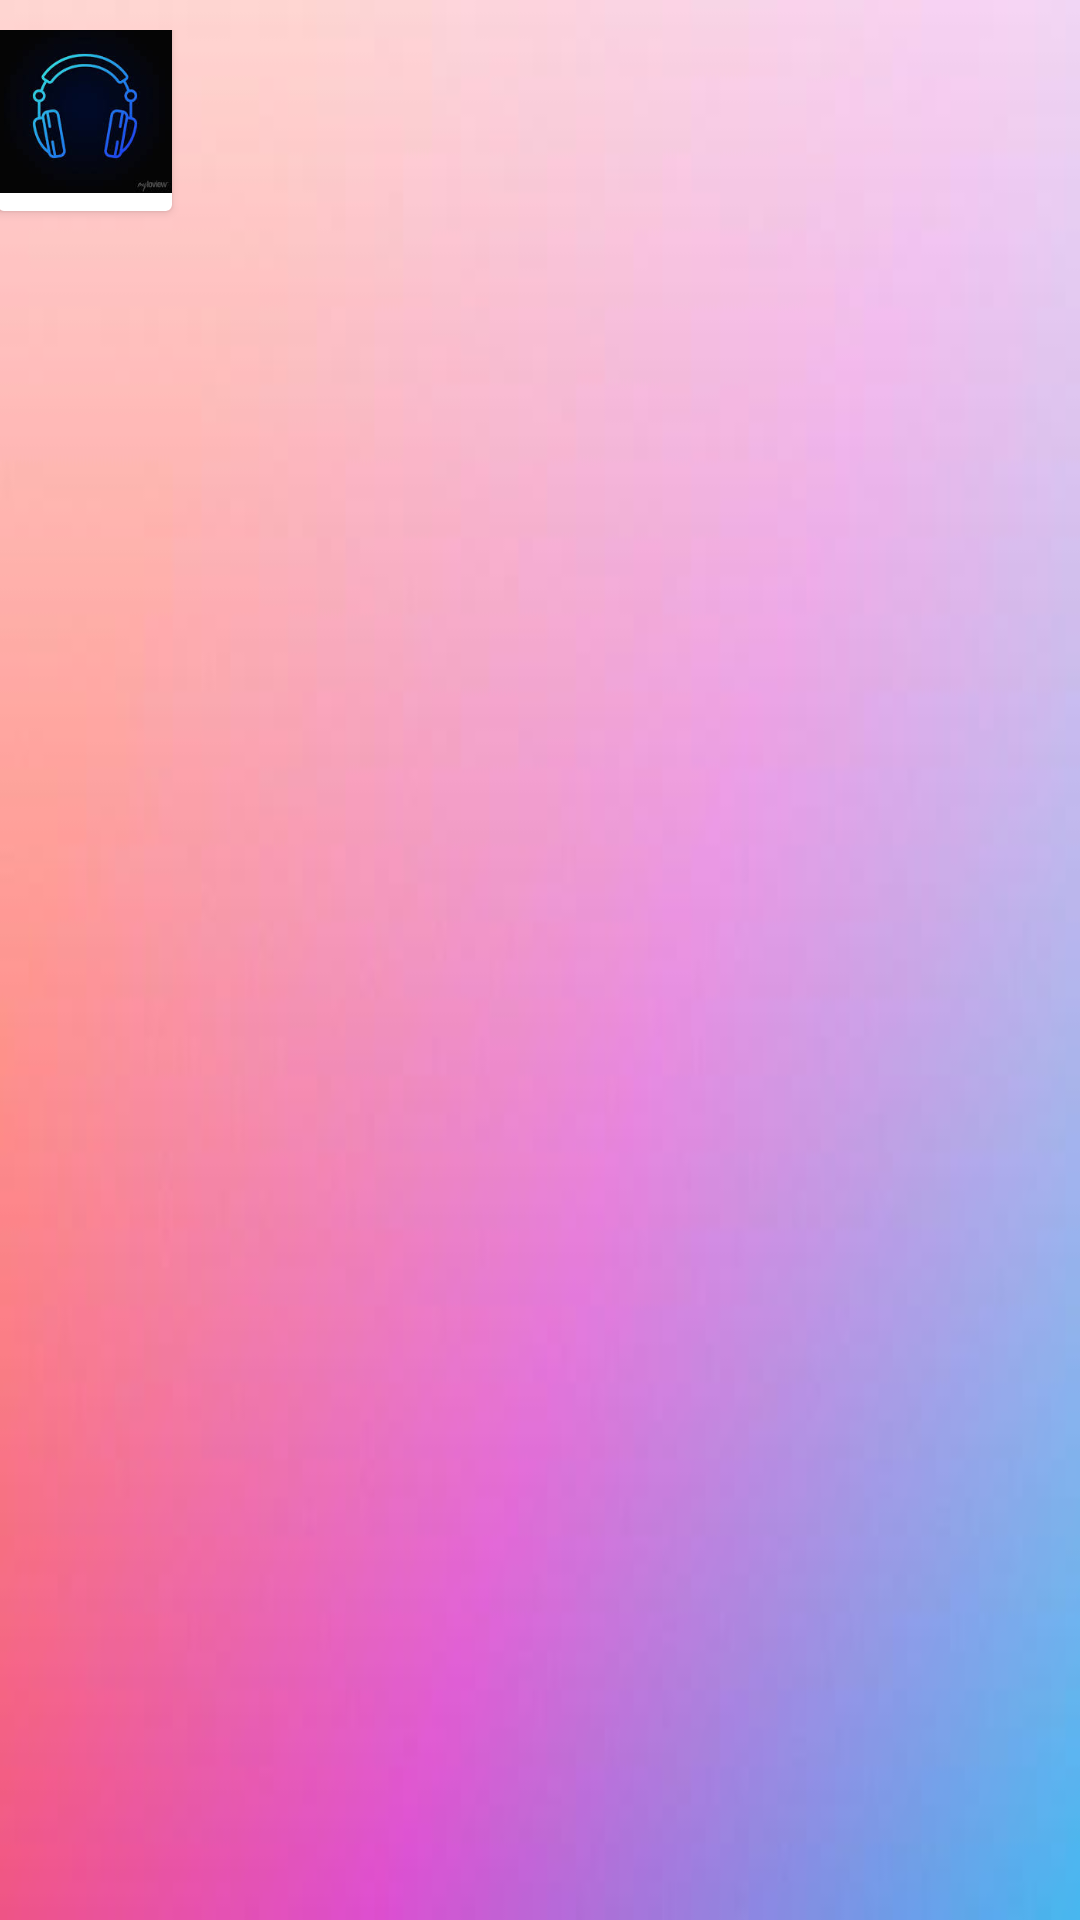

Screen size 1080x1920. Icon name, then its box in pixels as Rect(x1, y1, x2, y2):
music: Rect(0, 30, 172, 211)
